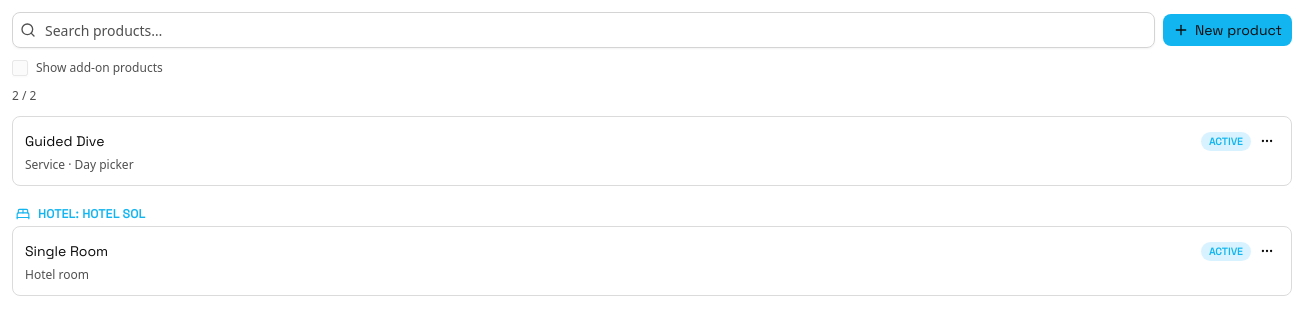
Test: ProductsList — hotel grouping (landr-ssrx) › hotel name is searchable via the filter input
Type "sol" into the field labelled "Search products…".
click(583, 30); type("sol")  # box [12, 12, 1155, 48]
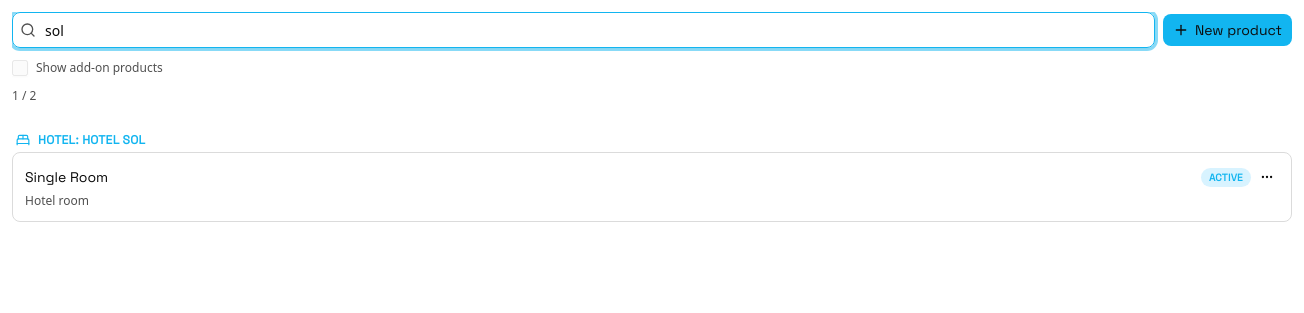
Expected: the text "Single Room" is shown, [25, 168, 108, 186]
Expected: the option "Guided Dive" is gone
